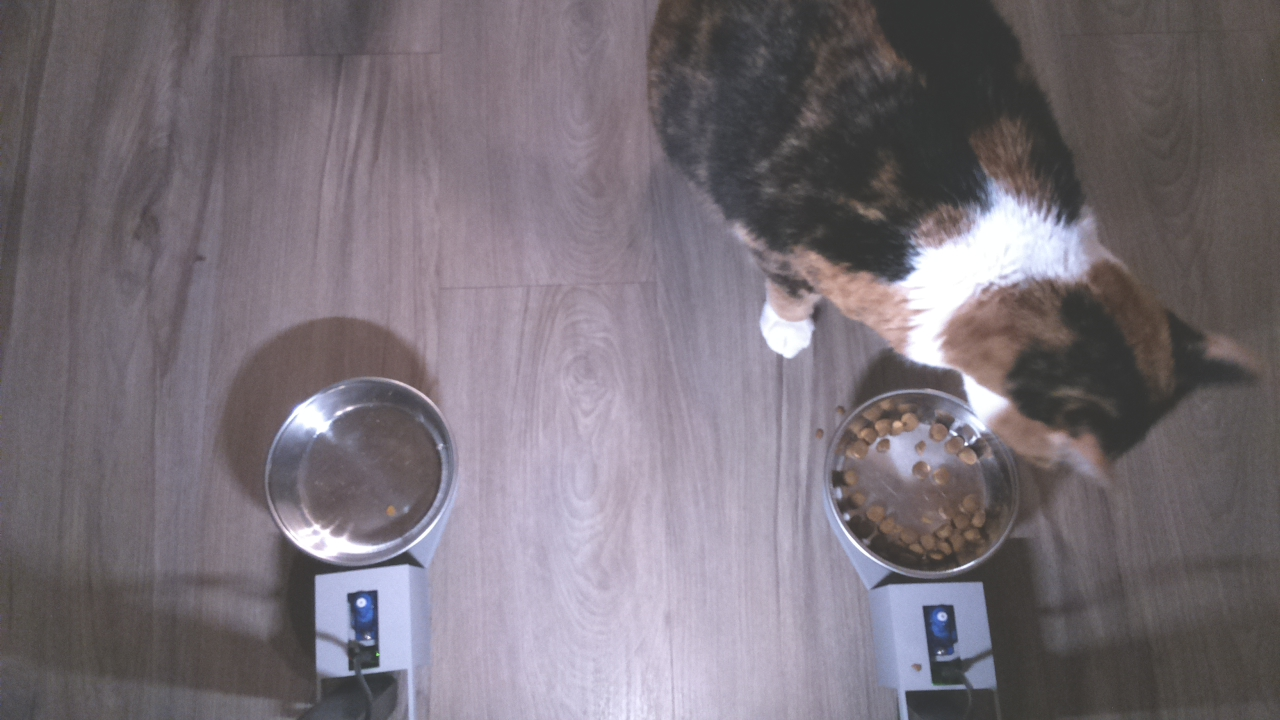bella: (957, 229, 1266, 497)
open_bowl: (816, 386, 1023, 586), (264, 372, 457, 572)
